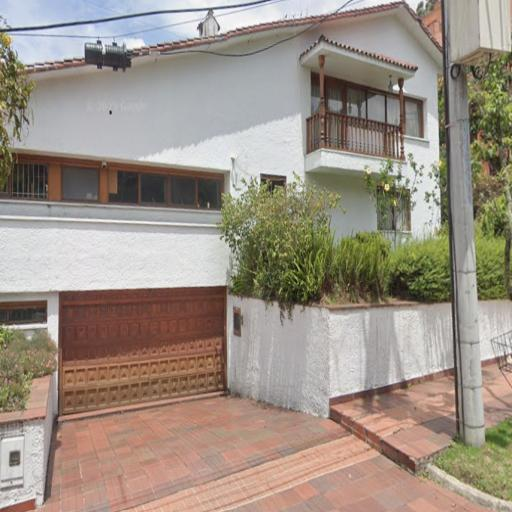Casa: (0, 0, 449, 413)
postes: (439, 0, 490, 447)
